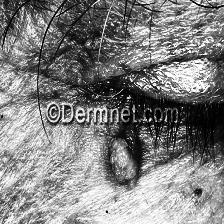Benign Marking or Mole: (101, 128, 144, 192)
